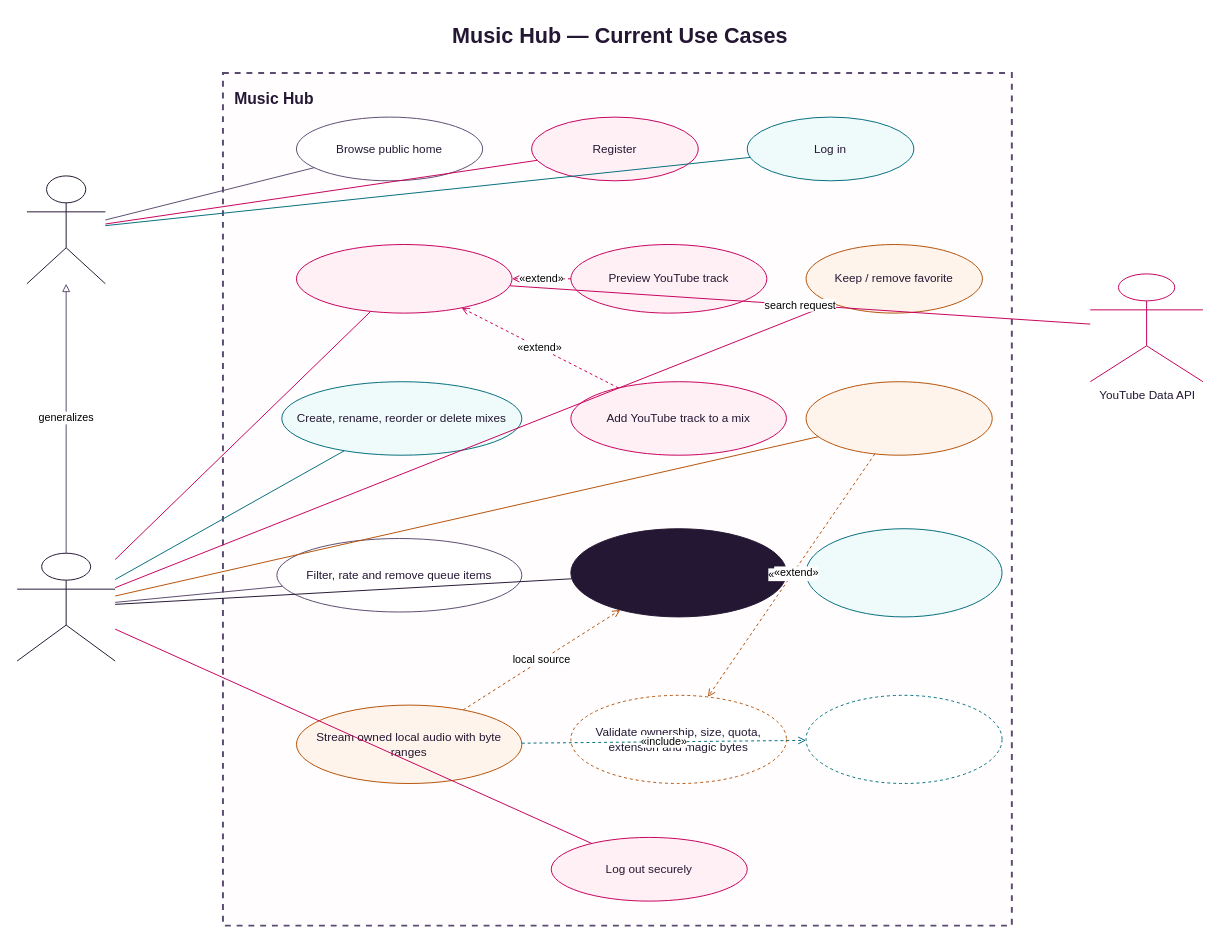
The diagram is 1220 pixels wide and 943 high, and some of its shapes have lost their labels. Here are the shapes that lost their labels. From the top down, the centre of each, then its label:
pixel 65 229: Visitor
pixel 403 278: Discover and search music
pixel 898 418: Upload supported local audio
pixel 678 572: Play / pause / previous / next and auto-advance
pixel 903 572: Browse Library ↔ Discover without resetting playback
pixel 65 606: Registered user
pixel 903 739: Authorize song through the owning playlist
